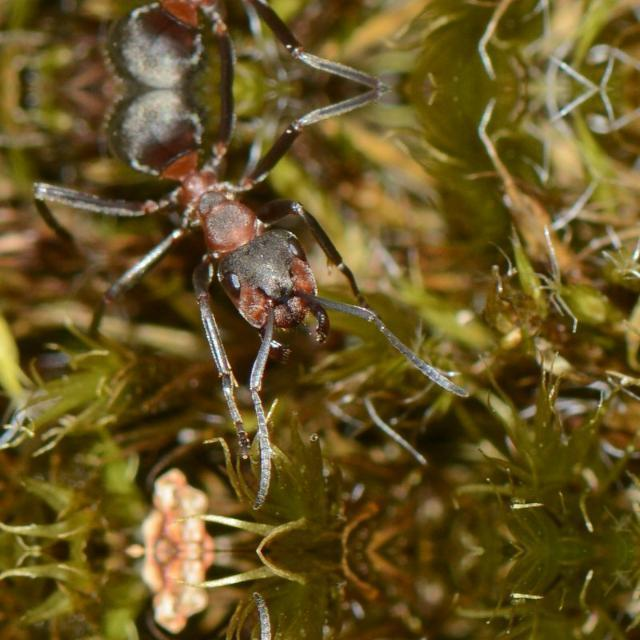Formica: (46, 88, 440, 398), (44, 0, 440, 88)
